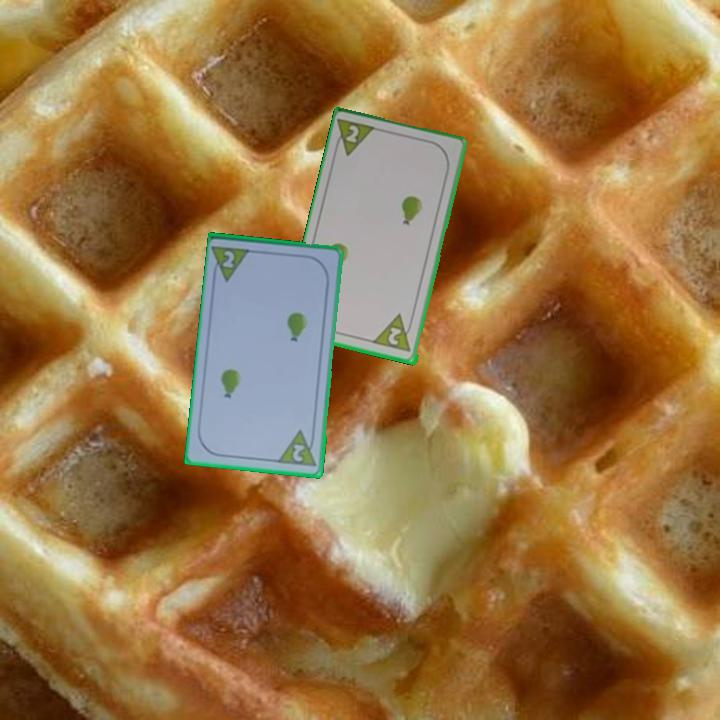2p: (331, 115, 380, 160), (371, 311, 417, 355), (289, 440, 308, 465), (219, 247, 237, 271)
